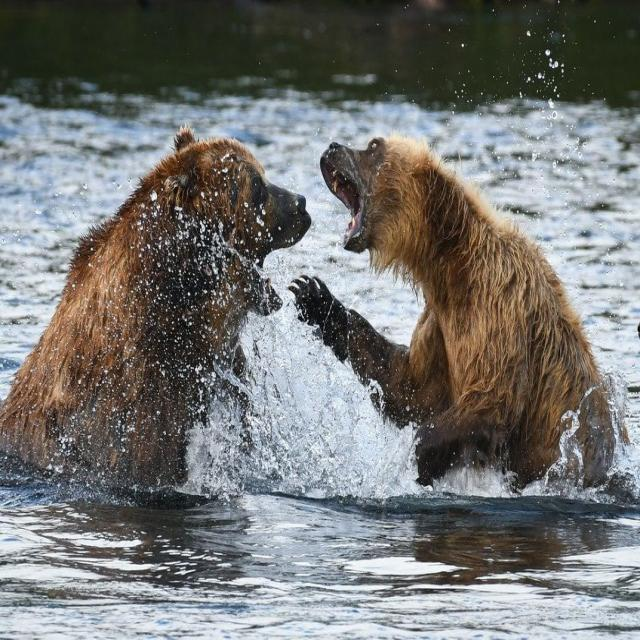Bear: (299, 136, 628, 496), (0, 129, 312, 490)
